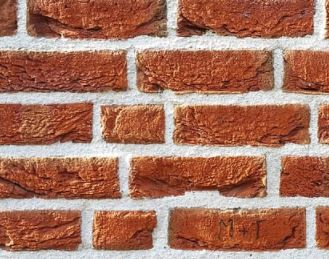brick: (134, 46, 278, 92), (1, 45, 130, 95), (173, 101, 312, 147), (127, 154, 270, 197), (169, 207, 305, 251), (1, 154, 122, 200), (25, 1, 170, 39), (173, 1, 315, 37), (1, 99, 94, 146), (1, 207, 82, 252), (90, 207, 159, 252), (102, 101, 166, 147), (280, 155, 329, 198), (283, 48, 328, 94)
